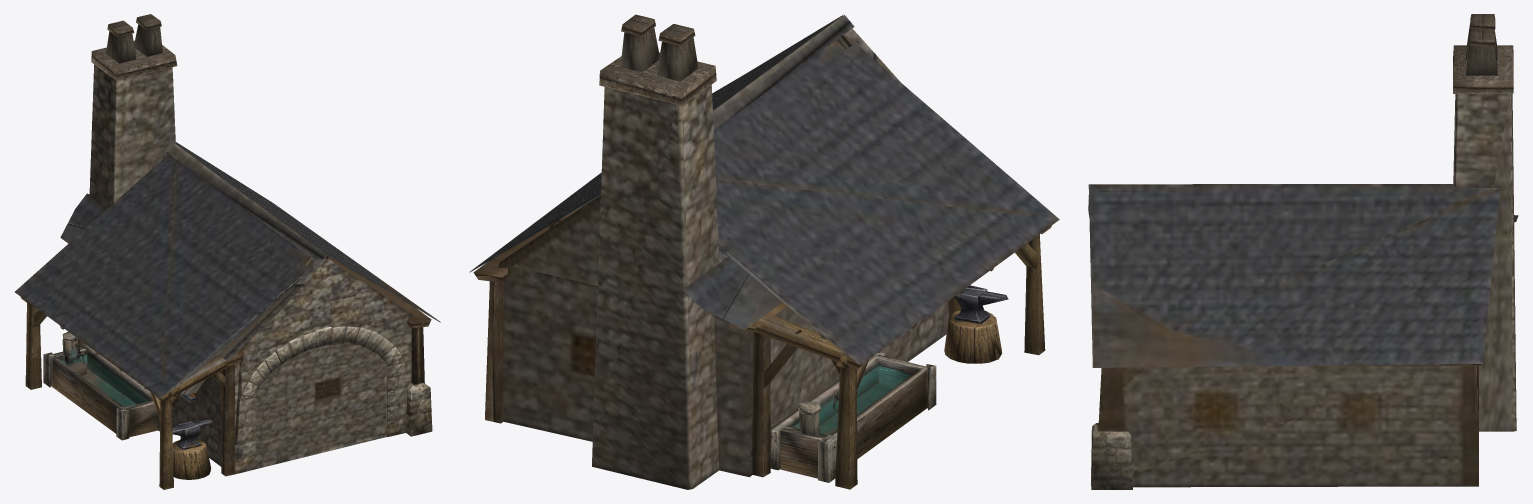
File: building-smithy.glb
The picture shows the model from 3 angles, left to right: view 1: azimuth 30°, elevation 25°; view 2: azimuth 150°, elevation 25°; view 3: azimuth 270°, elevation 25°; orthographic projection. The views are drawn at different scales.
Bounding box in the file's own units: 0.8477 × 0.9395 × 0.9502.
Materials: 1 (1 with a texture image).
